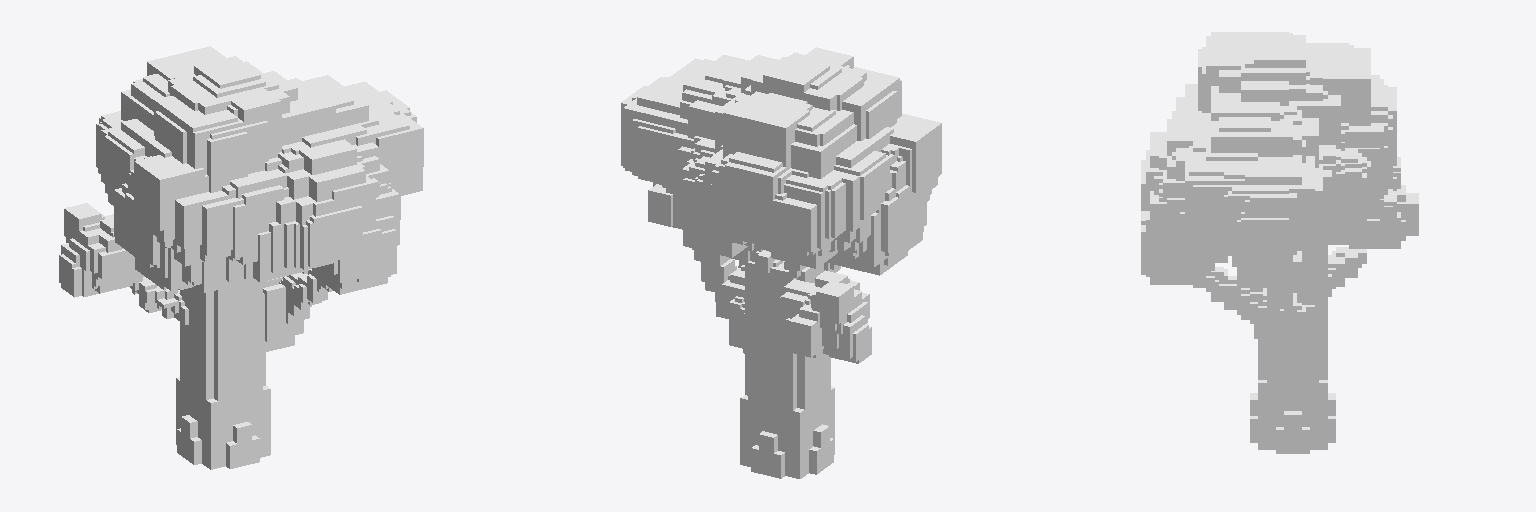
File: Tree_3.obj
The picture shows the model from 3 angles: view 1: azimuth 30°, elevation 25°; view 2: azimuth 150°, elevation 25°; view 3: azimuth 270°, elevation 25°; orthographic projection.
Parts seen in each view (by area): view 1: Tree_3; view 2: Tree_3; view 3: Tree_3.
Part boxes in pixels (bbox=[...]): Tree_3: bbox=[59, 46, 423, 469]; Tree_3: bbox=[621, 47, 941, 478]; Tree_3: bbox=[1141, 32, 1418, 453].
Bounding box in the file's own units: 76 × 98 × 64.